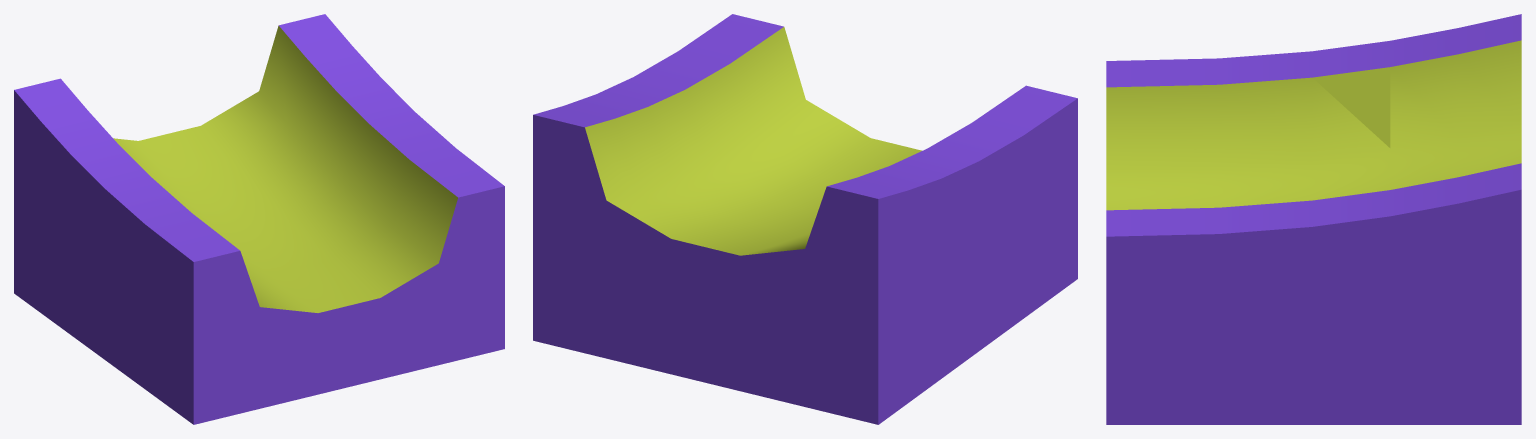
Rendered from rampStart_solid_A-col.dae.
3 views of the same model, side by side, from view 1: azimuth 30°, elevation 25°; view 2: azimuth 150°, elevation 25°; view 3: azimuth 270°, elevation 25° (orthographic). The views are drawn at different scales.
Parts seen in each view (by area): view 1: rampStart_solid_A-col; view 2: rampStart_solid_A-col; view 3: rampStart_solid_A-col.
Part boxes in pixels (x1=…): rampStart_solid_A-col: x1=14, y1=14, x2=504, y2=424; rampStart_solid_A-col: x1=533, y1=14, x2=1077, y2=424; rampStart_solid_A-col: x1=1106, y1=14, x2=1521, y2=424.
Size of the model in its own units: 1 by 1 by 0.625.
